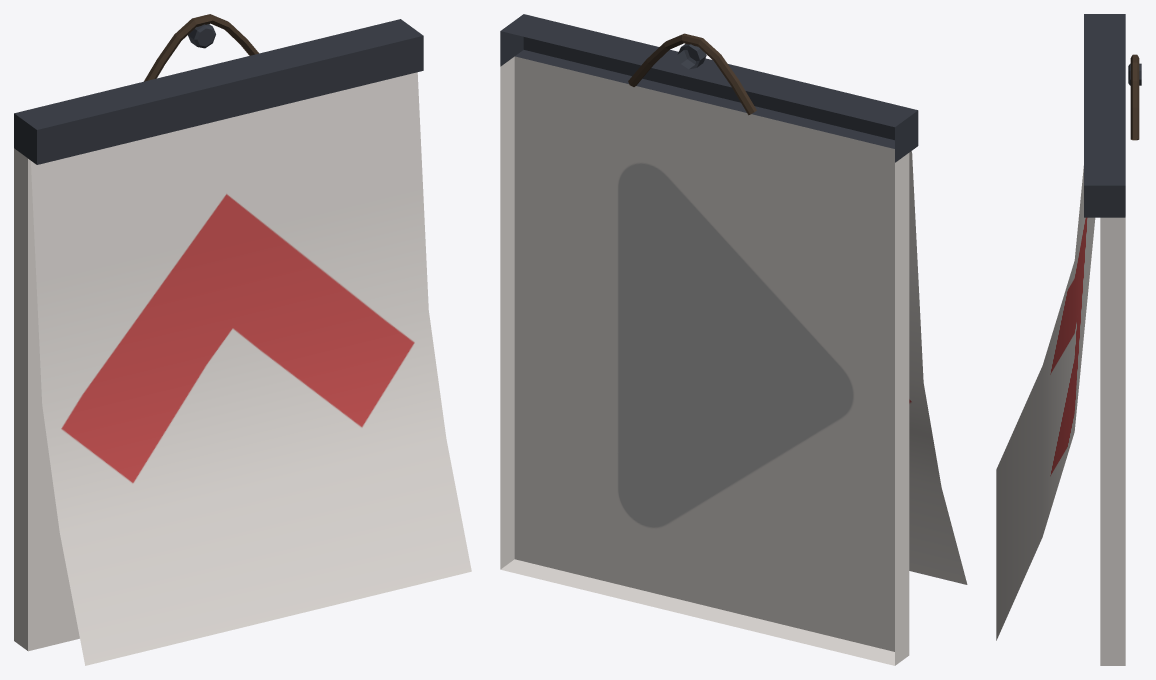
Rendered from calendar_test.fbx.
The picture shows the model from 3 angles, left to right: view 1: azimuth 30°, elevation 25°; view 2: azimuth 150°, elevation 25°; view 3: azimuth 270°, elevation 25°; orthographic projection. The views are drawn at different scales.
Parts seen in each view (by area): view 1: cel_plane.002, cel_plane.001, line; view 2: cel_plane.001, cel_plane.002, line; view 3: cel_plane.001, cel_plane.002, line.
Boxes of the visible parts, x1,y1,x2,y2 form: cel_plane.002: (31, 72, 471, 665); cel_plane.001: (14, 19, 423, 651); line: (144, 14, 258, 81); cel_plane.001: (500, 14, 918, 665); cel_plane.002: (909, 151, 967, 584); line: (628, 33, 756, 115); cel_plane.001: (1084, 14, 1125, 665); cel_plane.002: (996, 166, 1095, 640); line: (1130, 54, 1139, 140).
Bounding box in the file's own units: 63.73 × 90.27 × 22.79.
